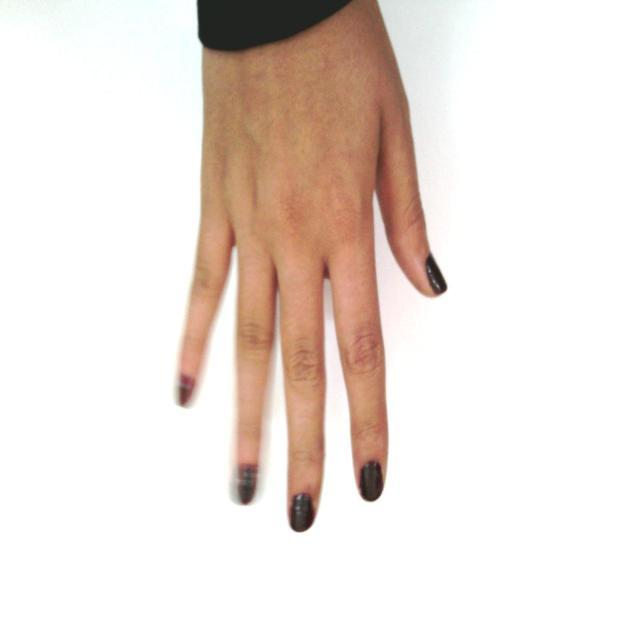Fingernail: (291, 494, 313, 533), (361, 462, 382, 502), (427, 256, 447, 293)
